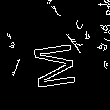M_W: (24, 41, 77, 95)
